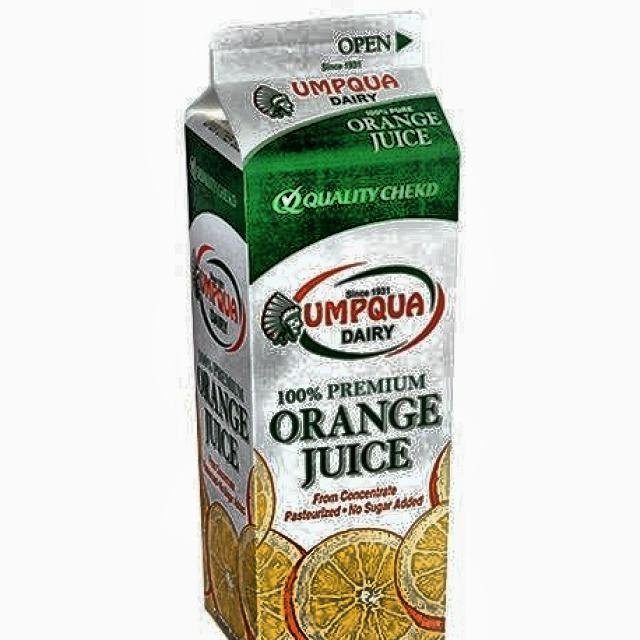cardboard: (183, 10, 460, 640)
